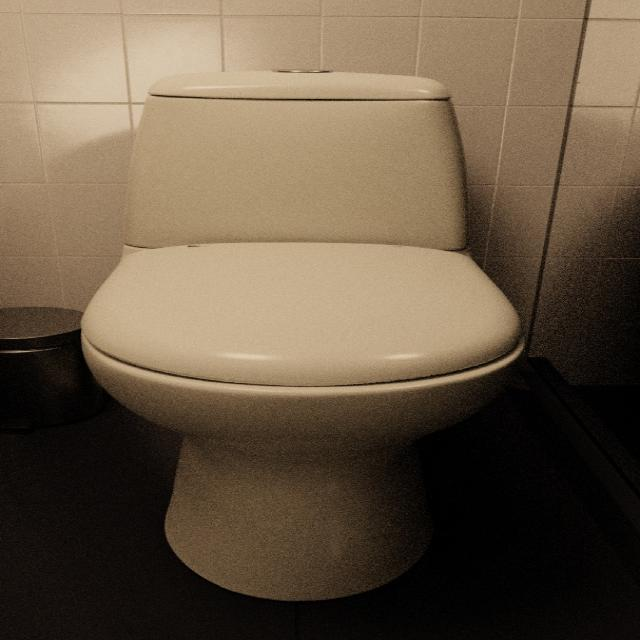toilet: (79, 69, 526, 601)
